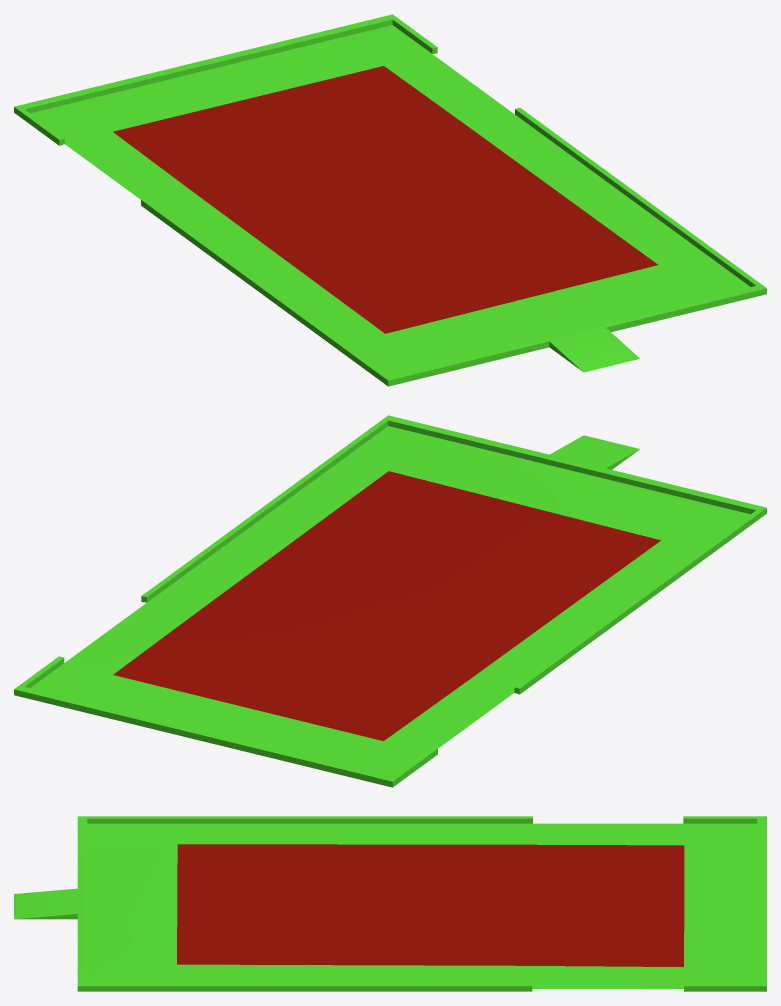
Rendered from Side Walk.fbx.
3 views of the same model, one above another, from view 1: azimuth 30°, elevation 25°; view 2: azimuth 150°, elevation 25°; view 3: azimuth 270°, elevation 25° (orthographic). The views are drawn at different scales.
Parts seen in each view (by area): view 1: Side Walk; view 2: Side Walk; view 3: Side Walk.
Boxes of the visible parts, box(x1,y1,x2,y2) form: Side Walk: box(14, 14, 766, 386); Side Walk: box(14, 415, 766, 787); Side Walk: box(14, 816, 766, 991).
Bounding box in the file's own units: 200 × 2.99 × 375.
